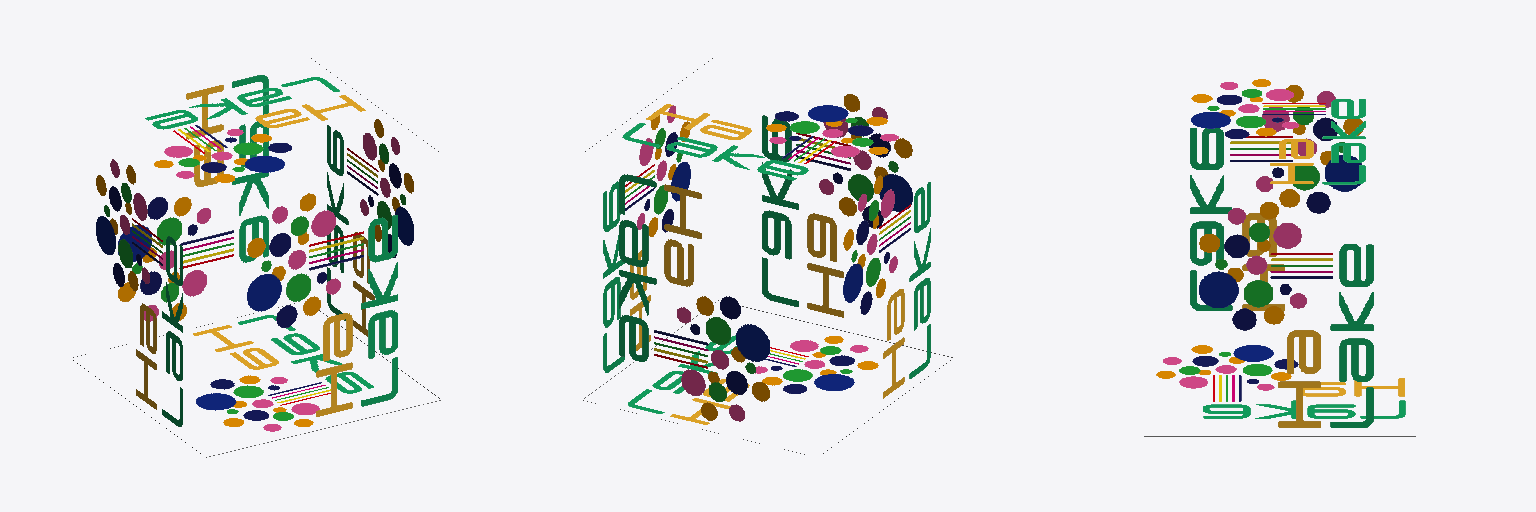
3 renders of one model, left to right at view 1: azimuth 30°, elevation 25°; view 2: azimuth 150°, elevation 25°; view 3: azimuth 270°, elevation 25°, orthographic.
Visible parts, largest first — view 1: Cube; view 2: Cube; view 3: Cube.
Boxes of the visible parts, box(x1,y1,x2,y2) form: Cube: box(73, 58, 440, 457); Cube: box(583, 58, 952, 454); Cube: box(1144, 79, 1415, 436).
Size of the model in its own units: 2 by 2 by 2.
1 materials, 1 textured.